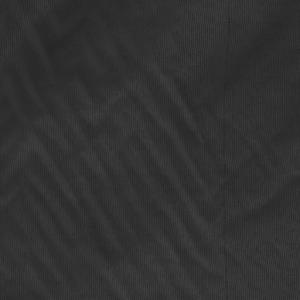Wrinkle: (1, 1, 300, 300)
